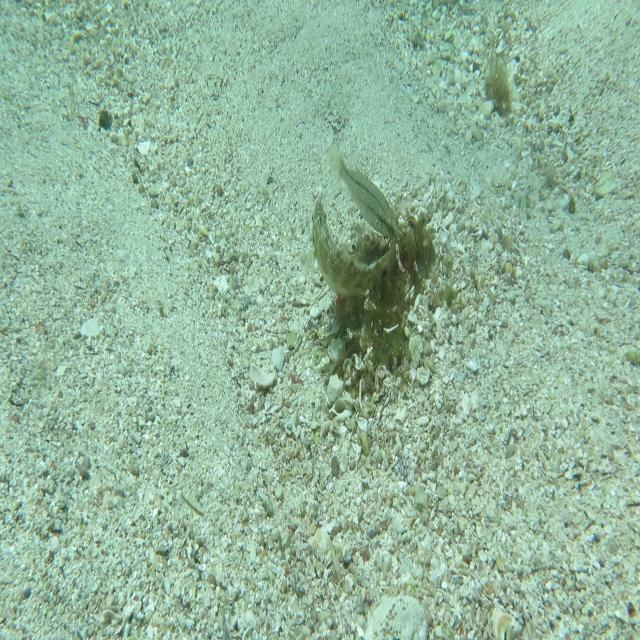BEND: (308, 190, 398, 301)
female: (324, 135, 402, 246)
nest: (327, 209, 442, 400)
